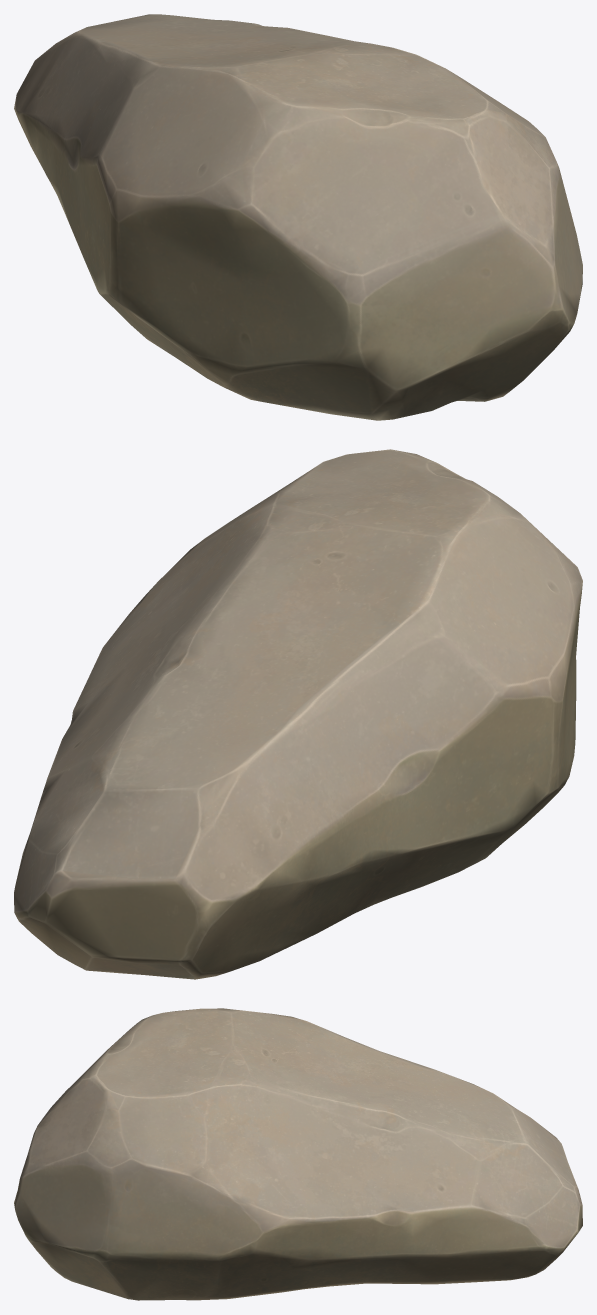
The model's file is SM_Rock_Large_1.fbx.
3 renders of one model, top to bottom at view 1: azimuth 30°, elevation 25°; view 2: azimuth 150°, elevation 25°; view 3: azimuth 270°, elevation 25°, orthographic. The views are drawn at different scales.
Parts seen in each view (by area): view 1: SM_Rock_Large_1_LOD0; view 2: SM_Rock_Large_1_LOD0; view 3: SM_Rock_Large_1_LOD0.
Part boxes in pixels (<box>): SM_Rock_Large_1_LOD0: <box>14,14,582,420</box>; SM_Rock_Large_1_LOD0: <box>14,449,582,979</box>; SM_Rock_Large_1_LOD0: <box>14,1008,582,1300</box>.
Size of the model in its own units: 176 by 289 by 118.
Materials: 1 (1 with a texture image).
